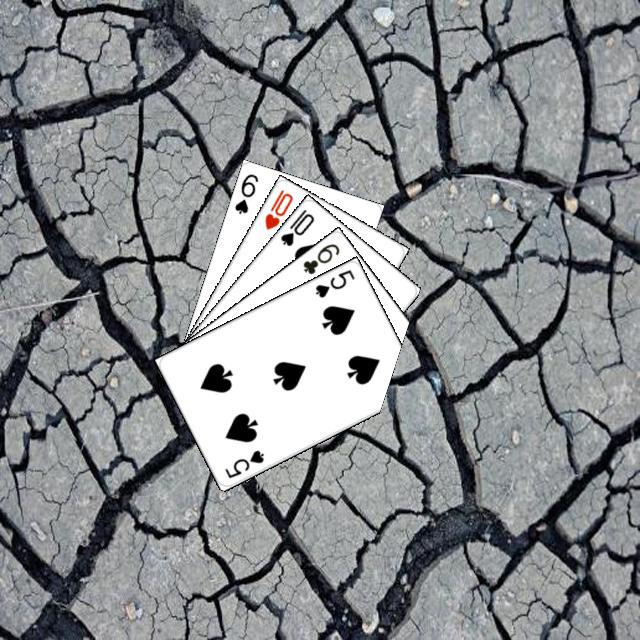10h: (260, 184, 295, 232)
10s: (275, 204, 316, 248)
5s: (310, 265, 357, 299), (220, 445, 265, 480)
6c: (298, 238, 341, 276)
6s: (230, 169, 260, 216)
